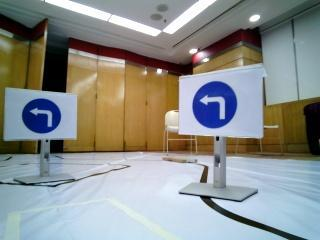left: (179, 80, 260, 142), (10, 91, 72, 137)
